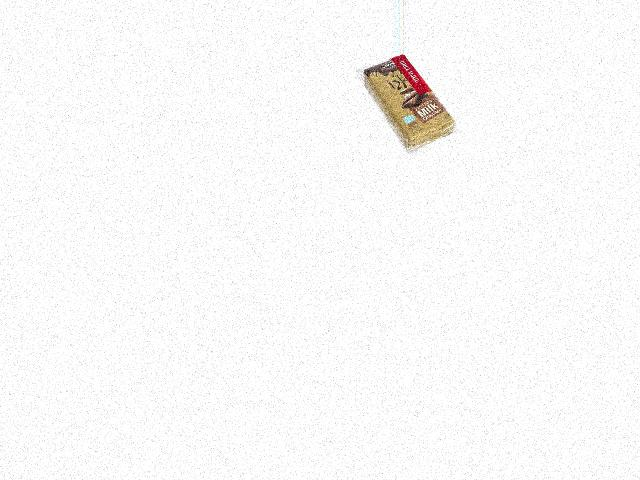chocolate: (361, 56, 467, 151)
